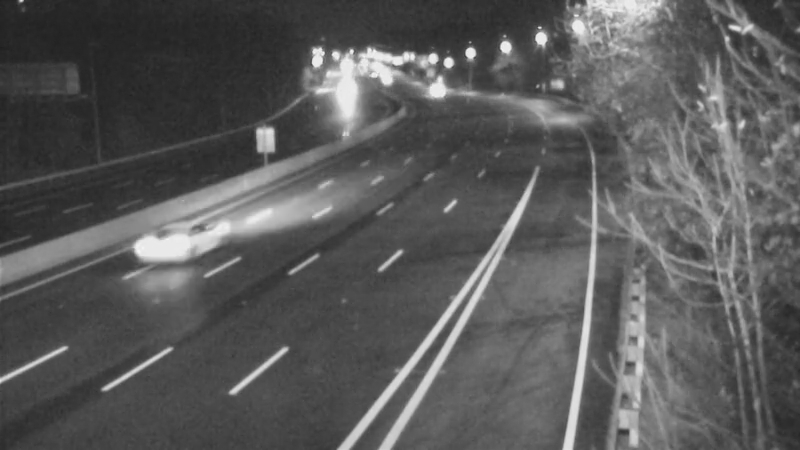vehicle: (126, 206, 206, 286), (414, 63, 464, 113)
